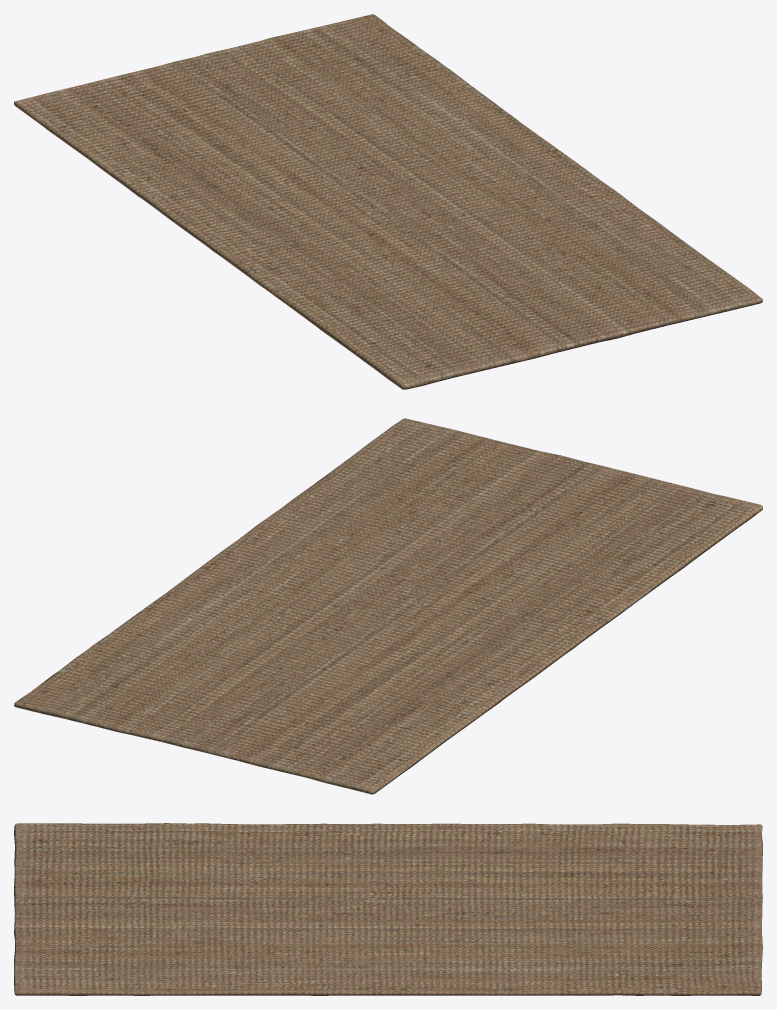
Rendered from lohals_rug_flatwoven_natural.glb.
3 renders of one model, top to bottom at view 1: azimuth 30°, elevation 25°; view 2: azimuth 150°, elevation 25°; view 3: azimuth 270°, elevation 25°, orthographic. The views are drawn at different scales.
Visible parts, largest first — view 1: PRT_isrz9st3_P01_S01_NV01; view 2: PRT_isrz9st3_P01_S01_NV01; view 3: PRT_isrz9st3_P01_S01_NV01.
Part boxes in pixels (x1,y1,x2,y2): PRT_isrz9st3_P01_S01_NV01: [14, 14, 762, 389]; PRT_isrz9st3_P01_S01_NV01: [14, 418, 762, 794]; PRT_isrz9st3_P01_S01_NV01: [14, 823, 762, 995].
Size of the model in its own units: 0.8012 by 0.0132 by 1.5.
Materials: 1 (1 with a texture image).
